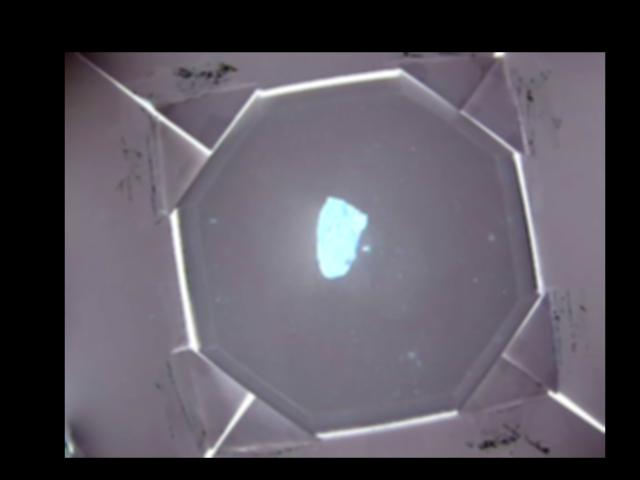Brisk: (314, 193, 367, 276)
